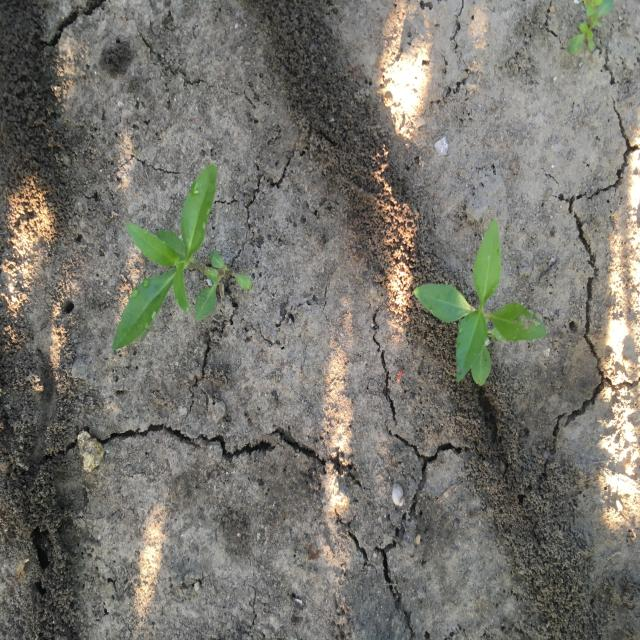Eclipta: (109, 162, 254, 351), (411, 216, 548, 388)
